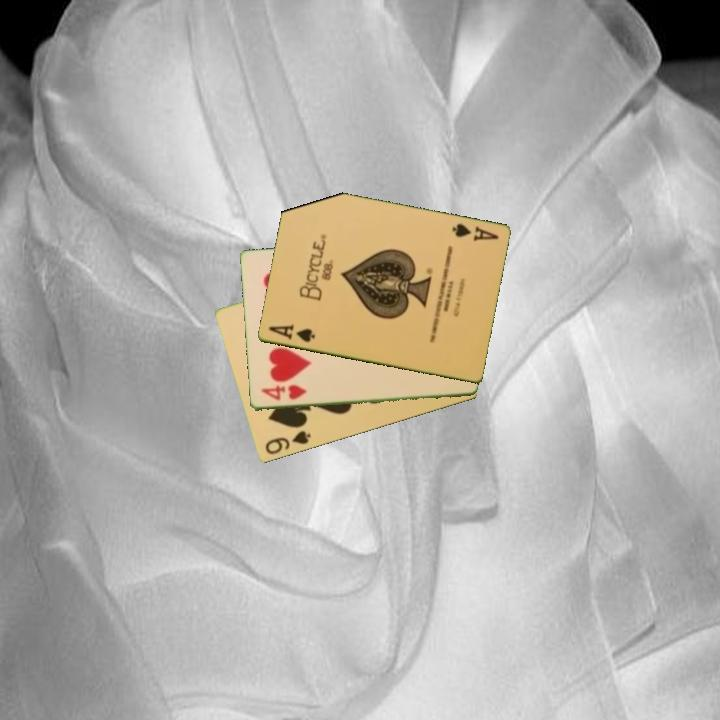4h: (257, 382, 309, 404)
9s: (261, 427, 313, 458)
As: (448, 220, 501, 244), (265, 321, 317, 345)
